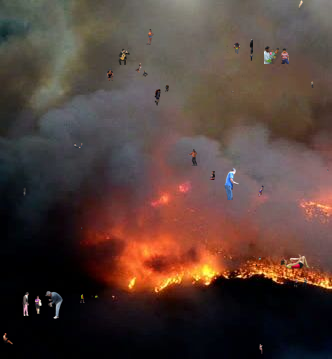Human: (224, 168, 240, 200), (45, 291, 63, 319), (22, 292, 42, 316), (280, 254, 312, 269), (264, 46, 289, 64), (226, 39, 253, 54), (118, 48, 130, 65), (292, 277, 308, 289), (293, 0, 310, 11), (135, 63, 148, 77), (80, 294, 99, 303), (188, 149, 198, 166), (3, 333, 14, 345), (146, 29, 154, 45), (154, 89, 161, 106), (107, 68, 114, 81), (258, 185, 264, 197), (209, 171, 215, 180), (258, 344, 263, 354), (166, 158, 175, 163), (74, 143, 83, 148), (311, 81, 316, 88), (165, 84, 169, 92), (249, 55, 254, 61), (23, 186, 26, 196), (81, 227, 84, 232), (258, 256, 261, 260), (327, 169, 329, 172), (231, 91, 234, 93), (207, 290, 208, 294), (256, 264, 257, 267), (242, 74, 243, 77)
